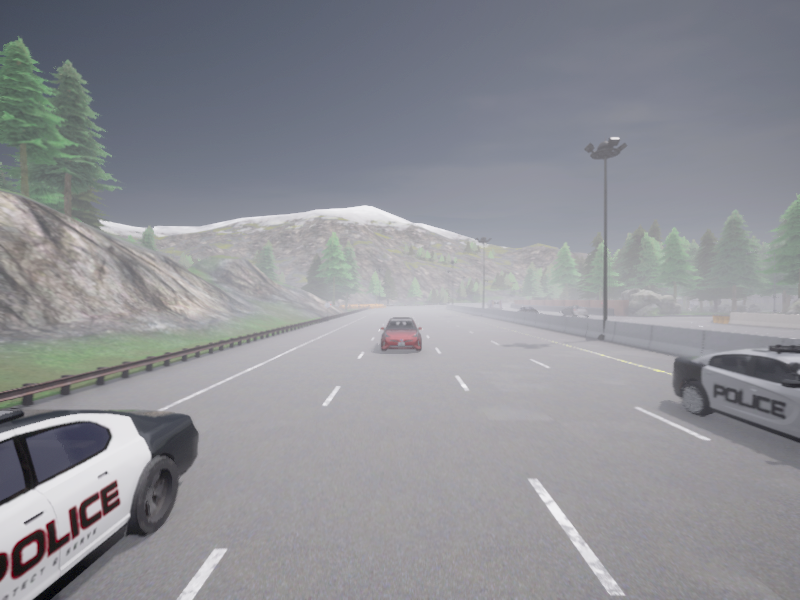vehicle: (0, 409, 198, 599), (671, 344, 799, 442), (380, 317, 421, 351), (561, 305, 588, 316), (486, 300, 501, 309), (517, 307, 536, 312)
